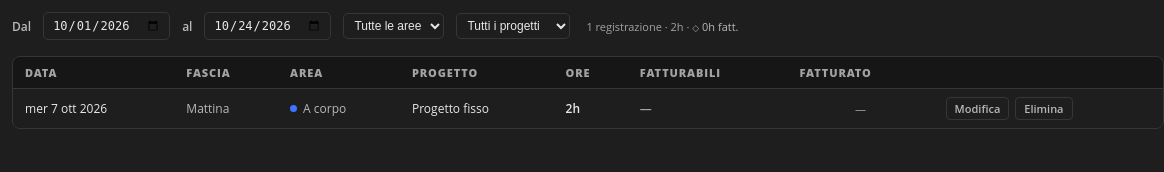
Test: EntriesScreen › la data è scritta per esteso e l'avviso compare solo sulla conferma di eliminazione
Click the button "Elimina".
click(1044, 108)  # box [1015,97,1072,120]
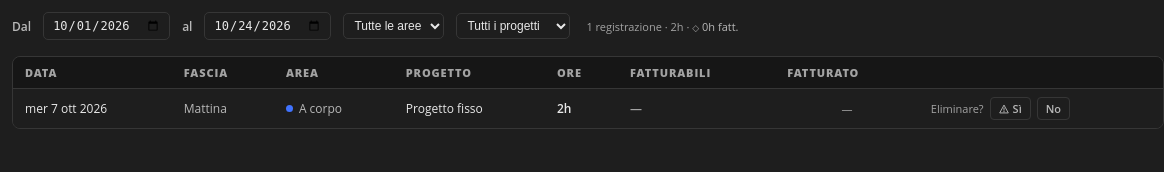
Expected: the icon is shown, [999,104,1009,114]
